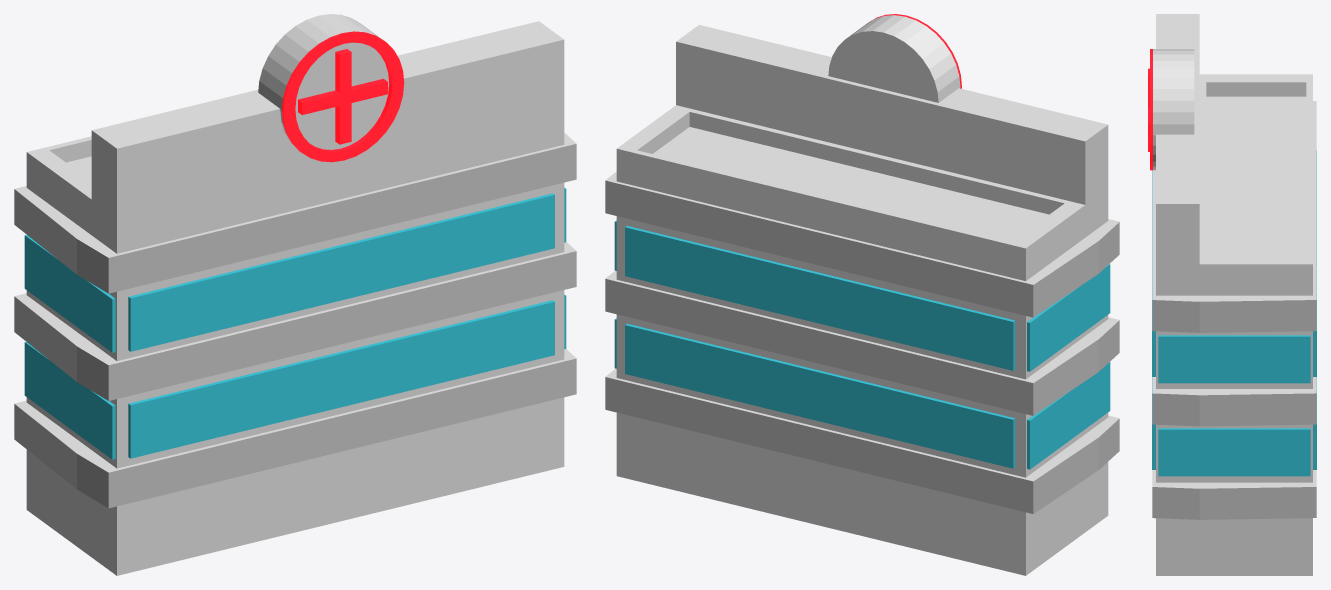
Rendered from Hospital.fbx.
The picture shows the model from 3 angles, left to right: view 1: azimuth 30°, elevation 25°; view 2: azimuth 150°, elevation 25°; view 3: azimuth 270°, elevation 25°; orthographic projection. The views are drawn at different scales.
Visible parts, largest first — view 1: Cube, Cube.001; view 2: Cube, Cube.001; view 3: Cube, Cube.001.
Part boxes in pixels (<box>): Cube: <box>14,14,576,575</box>; Cube.001: <box>24,187,566,459</box>; Cube: <box>605,14,1119,575</box>; Cube.001: <box>614,220,1110,469</box>; Cube: <box>1148,14,1316,575</box>; Cube.001: <box>1152,150,1316,476</box>.
Bounding box in the file's own units: 1867 × 1832 × 657.
